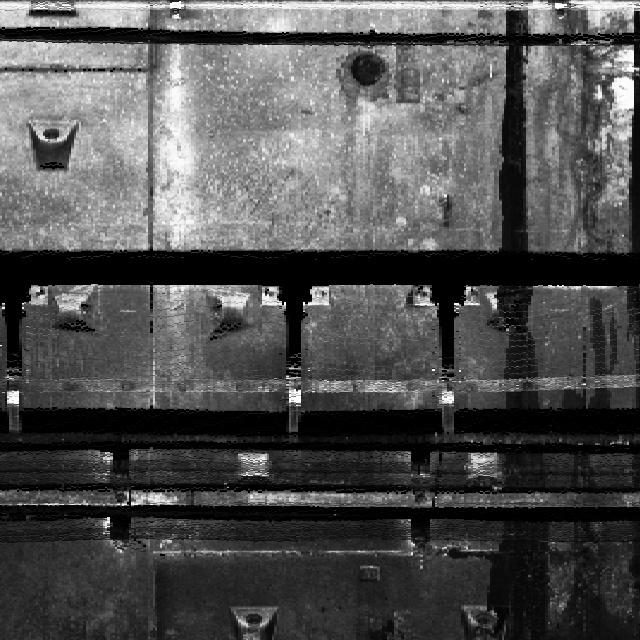leakage: (487, 2, 550, 639), (553, 290, 639, 409), (558, 521, 639, 639)
